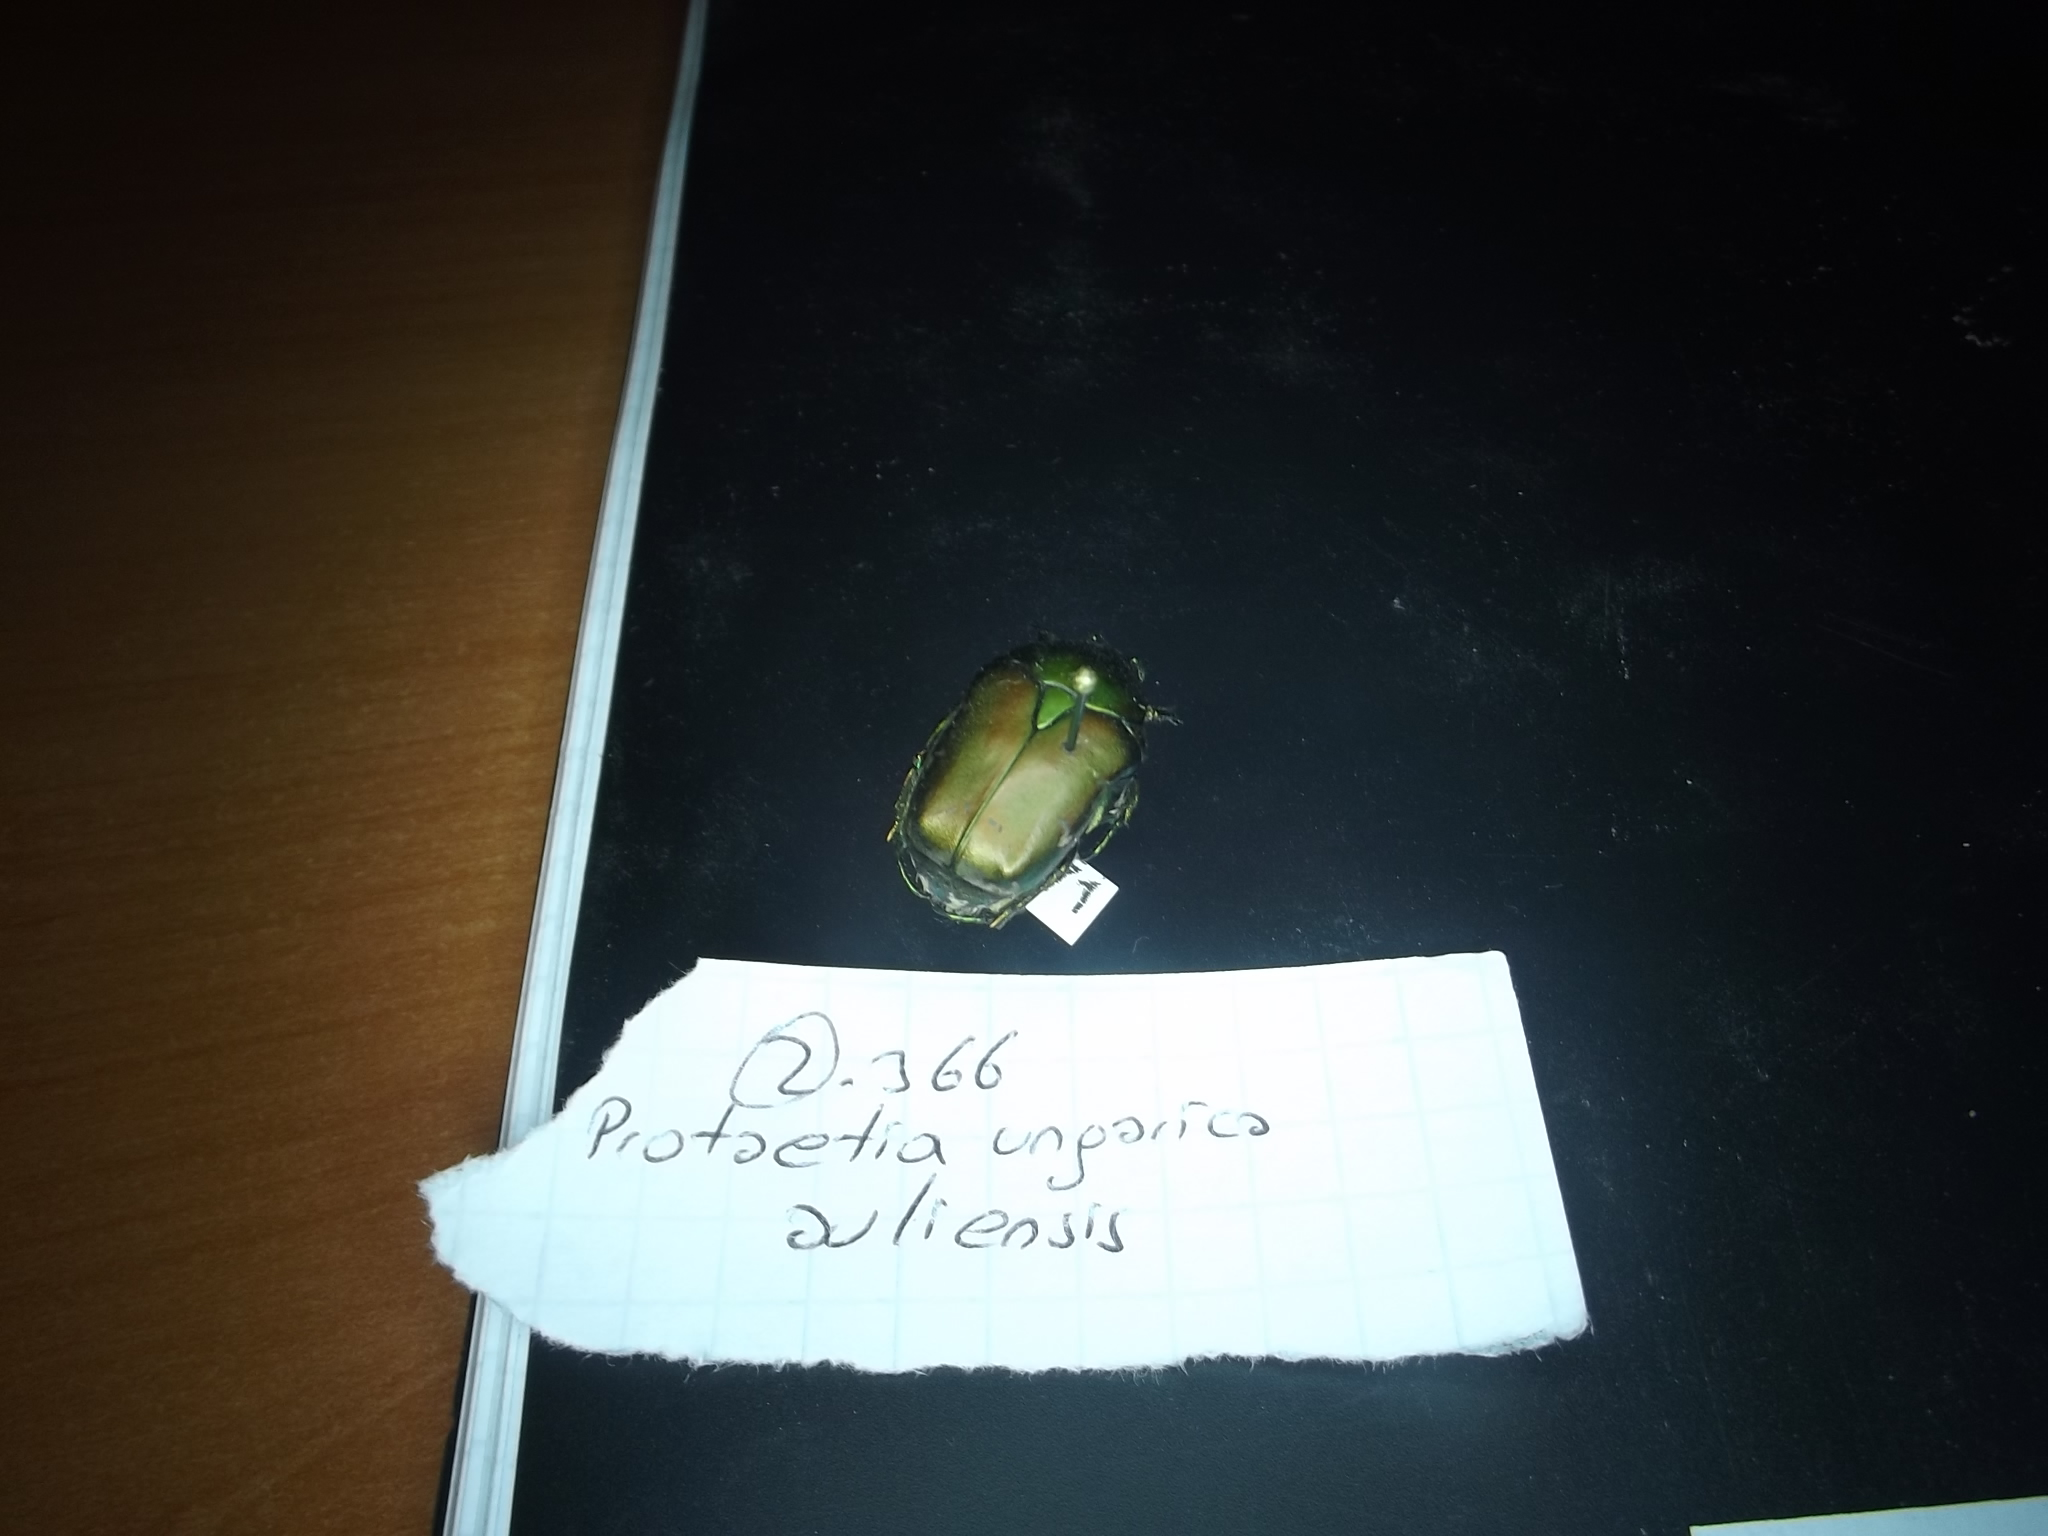Protaetia_ungarica_auliensis: (874, 579, 1195, 945)
